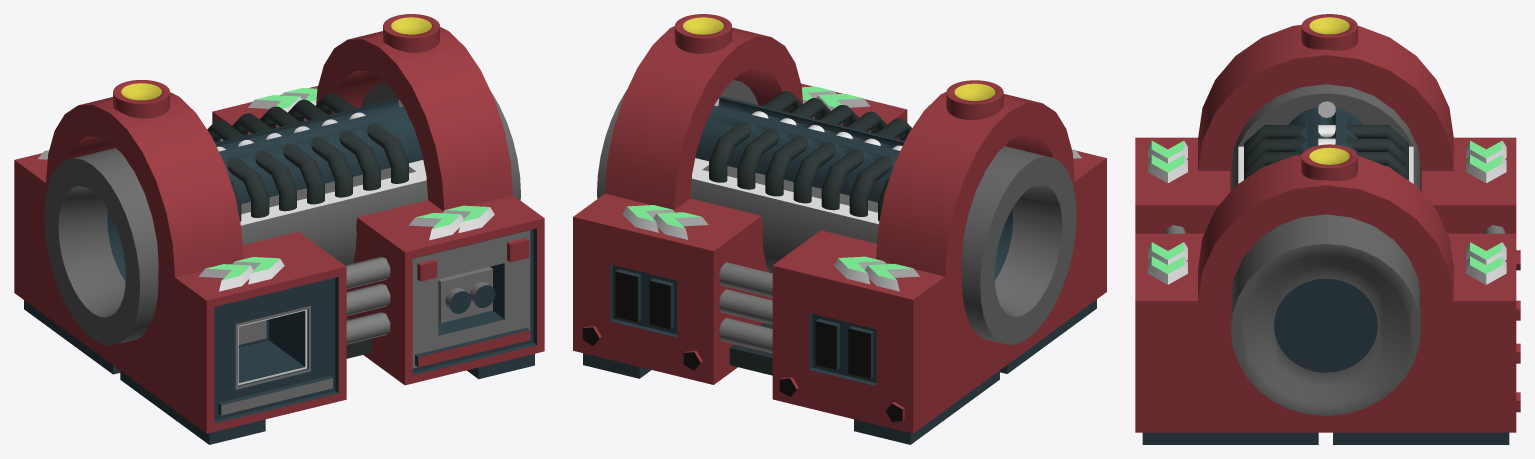
Rendered from MiniTuribe_01.fbx.
3 renders of one model, left to right at view 1: azimuth 30°, elevation 25°; view 2: azimuth 150°, elevation 25°; view 3: azimuth 270°, elevation 25°, orthographic.
Visible parts, largest first — view 1: Model; view 2: Model; view 3: Model.
Boxes of the visible parts, x1,y1,x2,y2 form: Model: (14,14,544,444); Model: (573,14,1106,444); Model: (1135,14,1520,444).
Size of the model in its own units: 257 by 179 by 227.
